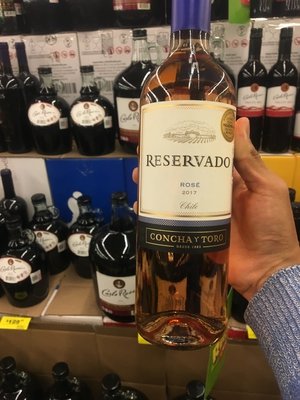reservado rose: (136, 6, 241, 347)
